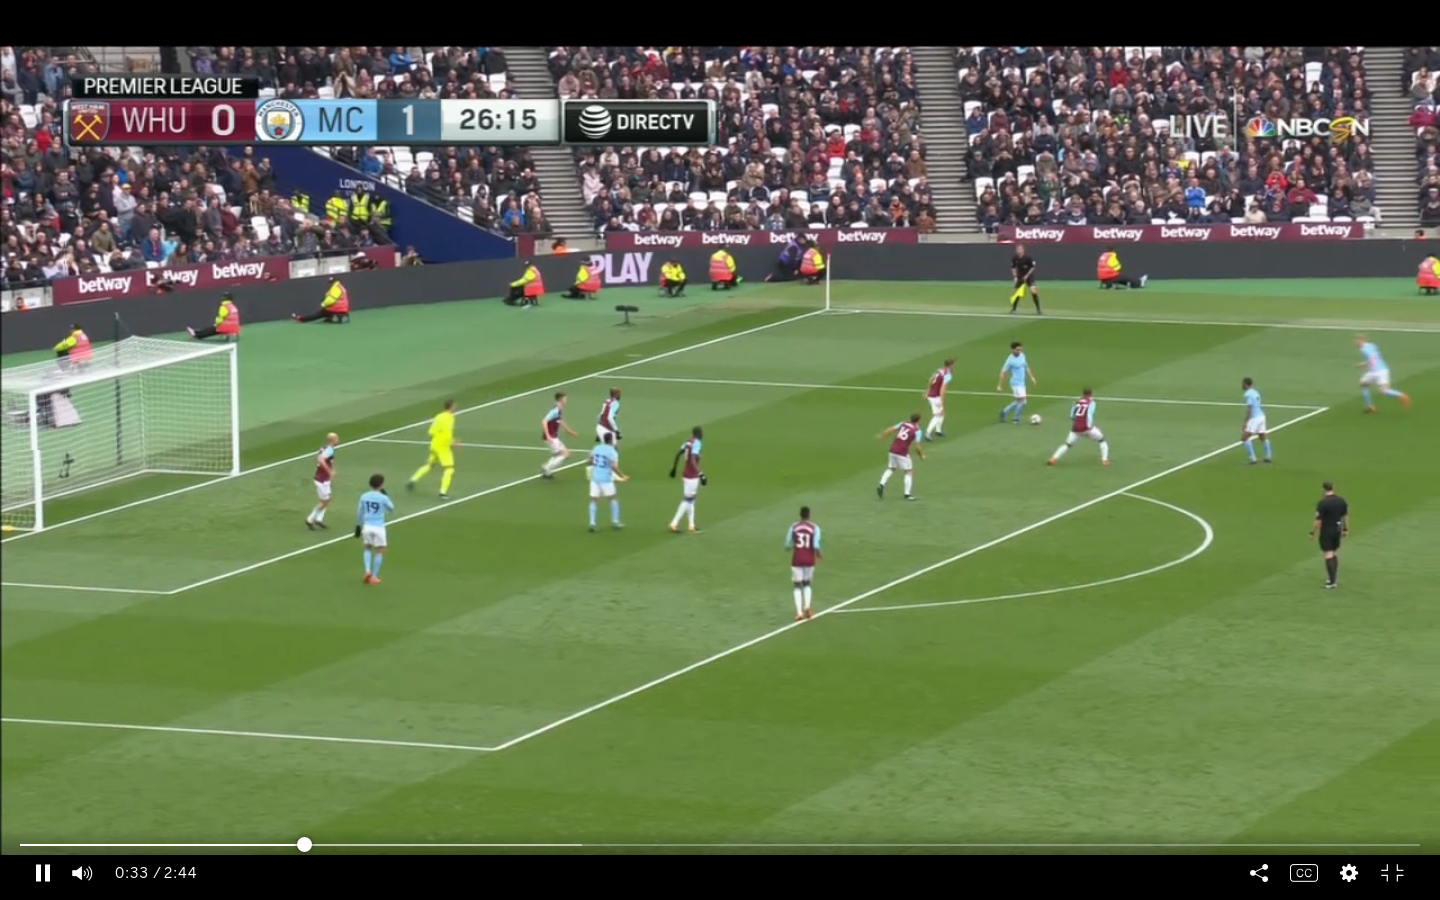referee: (1305, 479, 1362, 596), (1004, 239, 1048, 320)
soccer player: (776, 503, 833, 634), (402, 402, 465, 508), (1347, 329, 1413, 428), (662, 426, 719, 540), (352, 471, 402, 589), (1050, 383, 1115, 472), (581, 434, 630, 551), (867, 412, 930, 503), (532, 386, 578, 494), (1228, 369, 1278, 468), (305, 429, 344, 540), (925, 352, 965, 445), (993, 342, 1036, 425), (593, 388, 630, 437)
soccerball: (1025, 403, 1047, 429)
